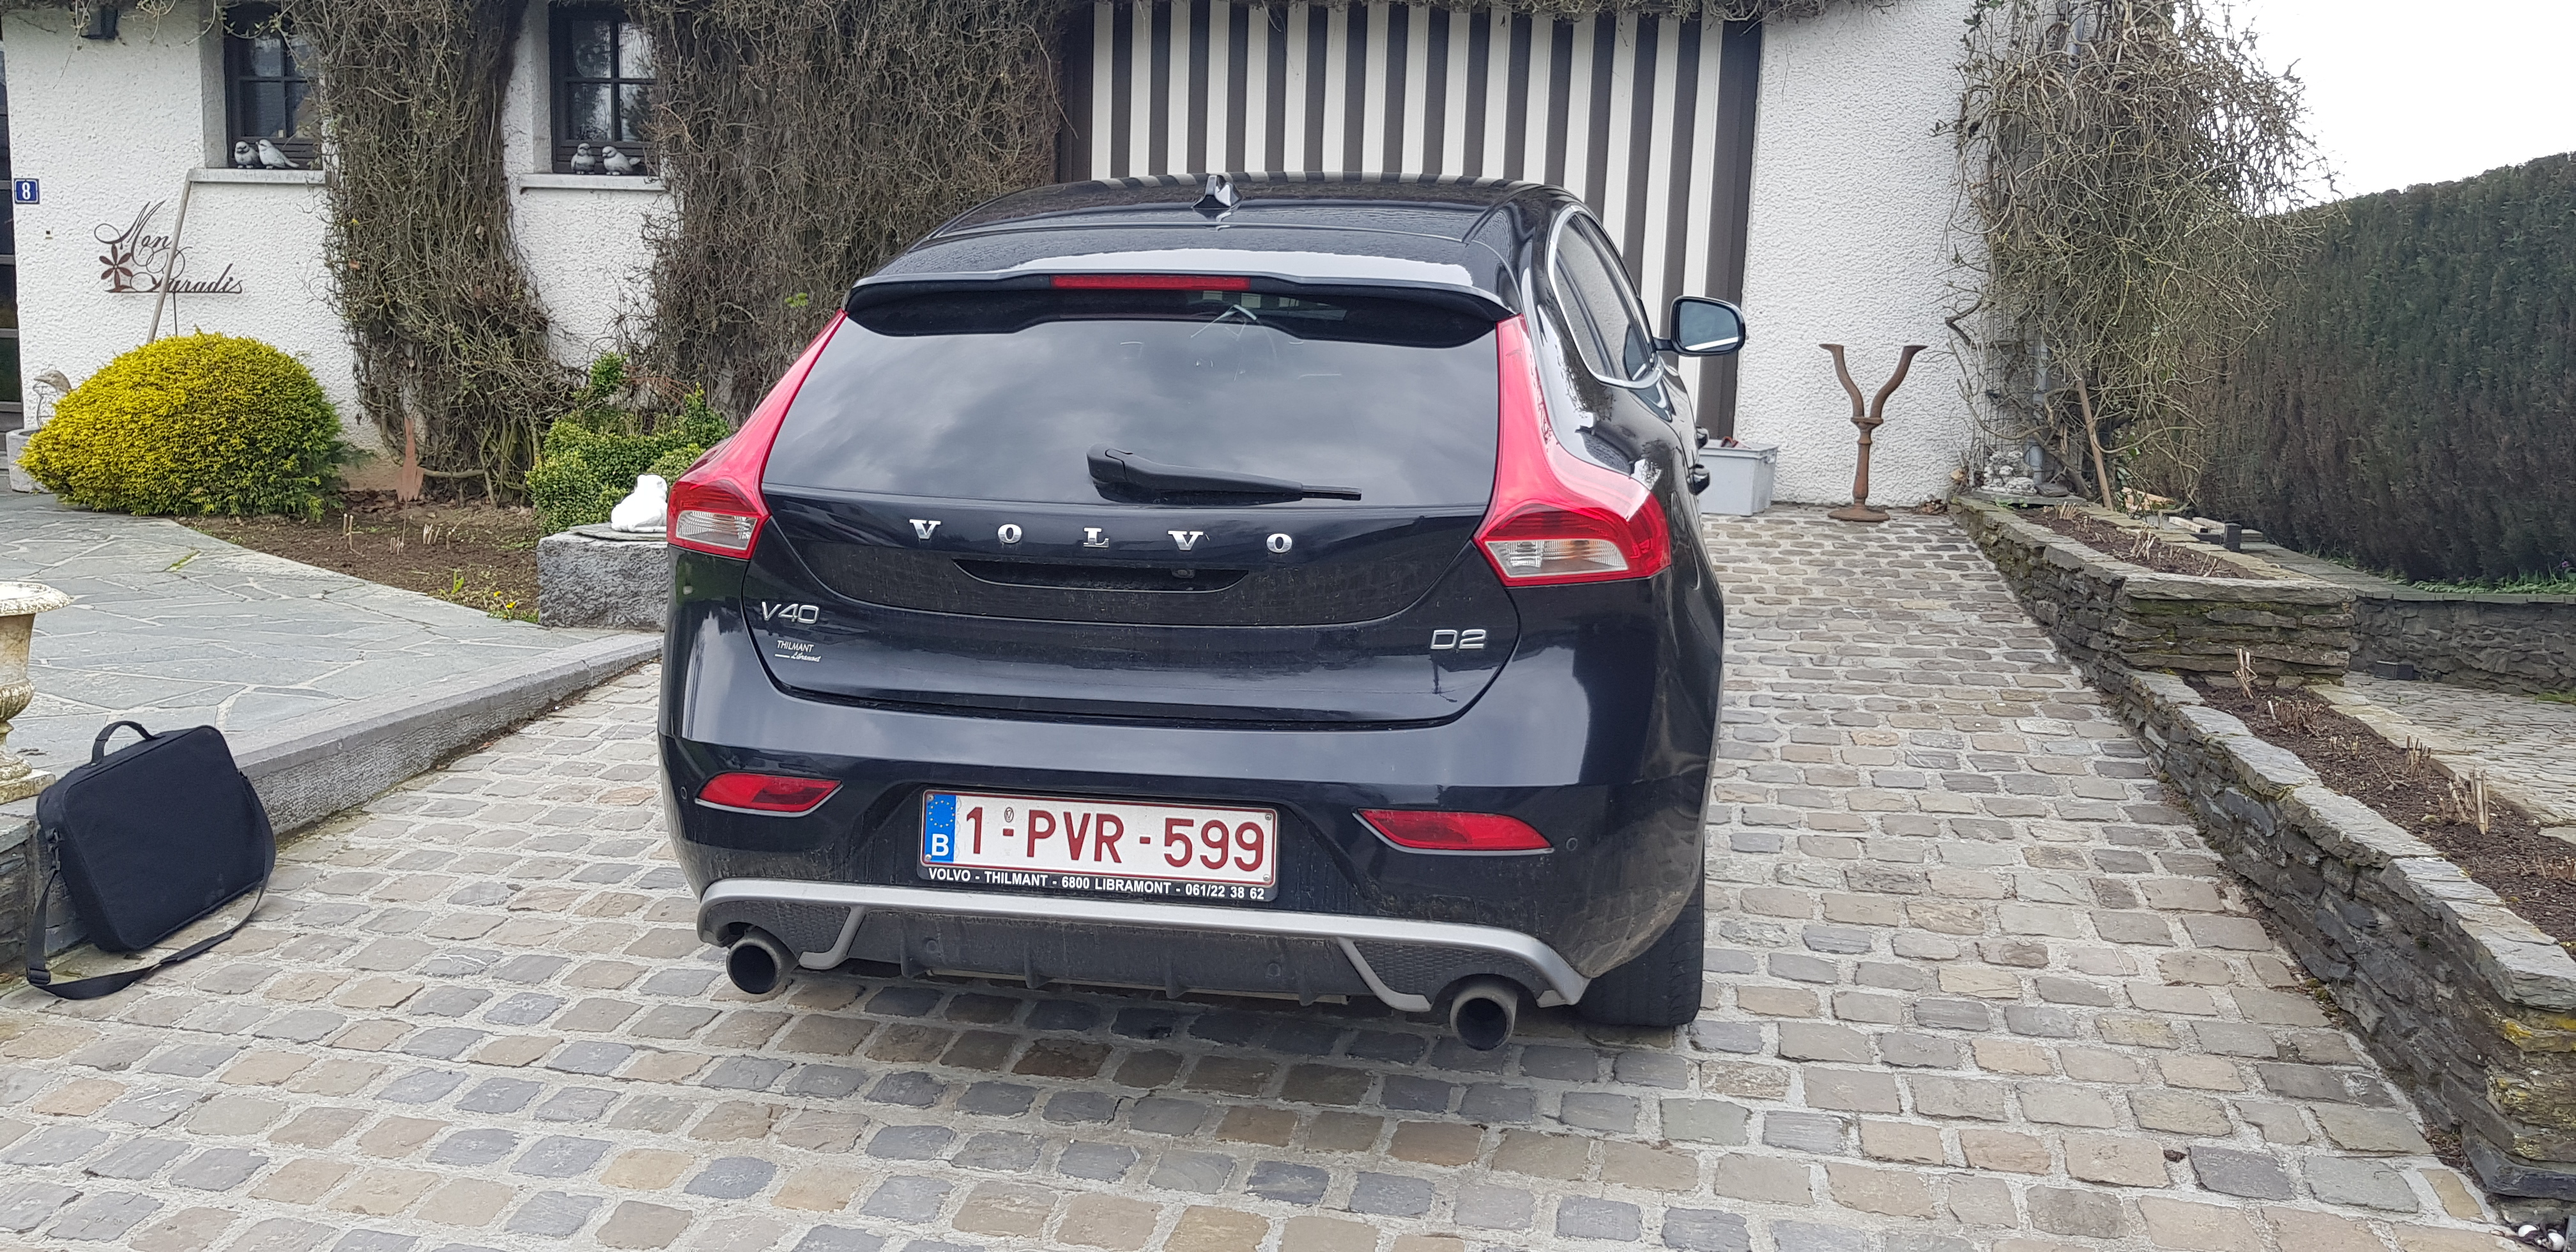licenceplate: (916, 788, 1282, 892)
